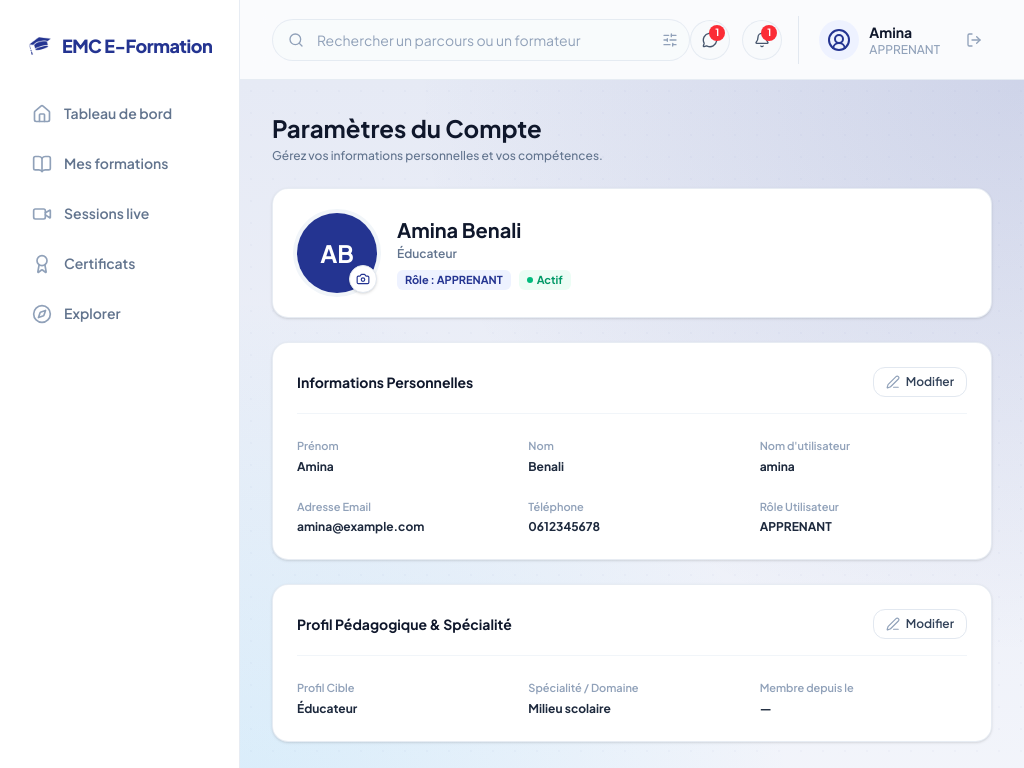
Test case: Intégration — parcours apprenant › charge et met à jour le profil
Expected: the heading "Informations Personnelles" is shown, [297, 372, 473, 392]
Expected: the 1st text "Amina" is shown, [869, 22, 912, 40]
Click the 1st button "Modifier" at [920, 382], box [873, 367, 967, 397]
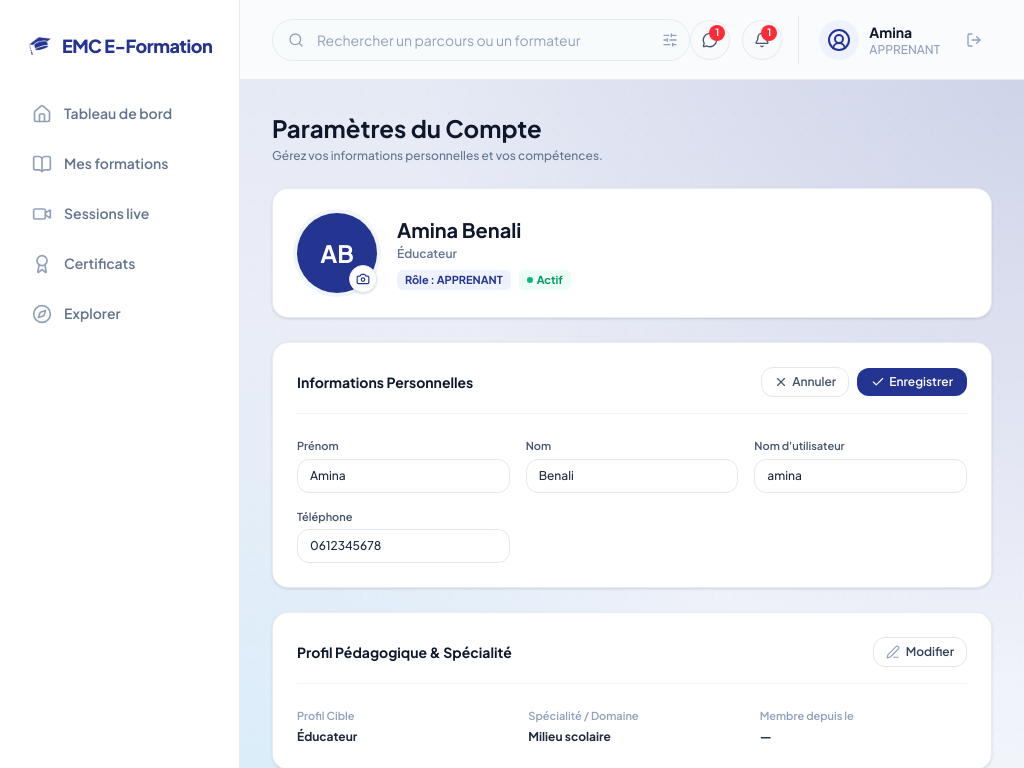
Replace the text in the field showing "Amina" below "Prénom" with "Amine" at [403, 476], box [297, 458, 510, 492]
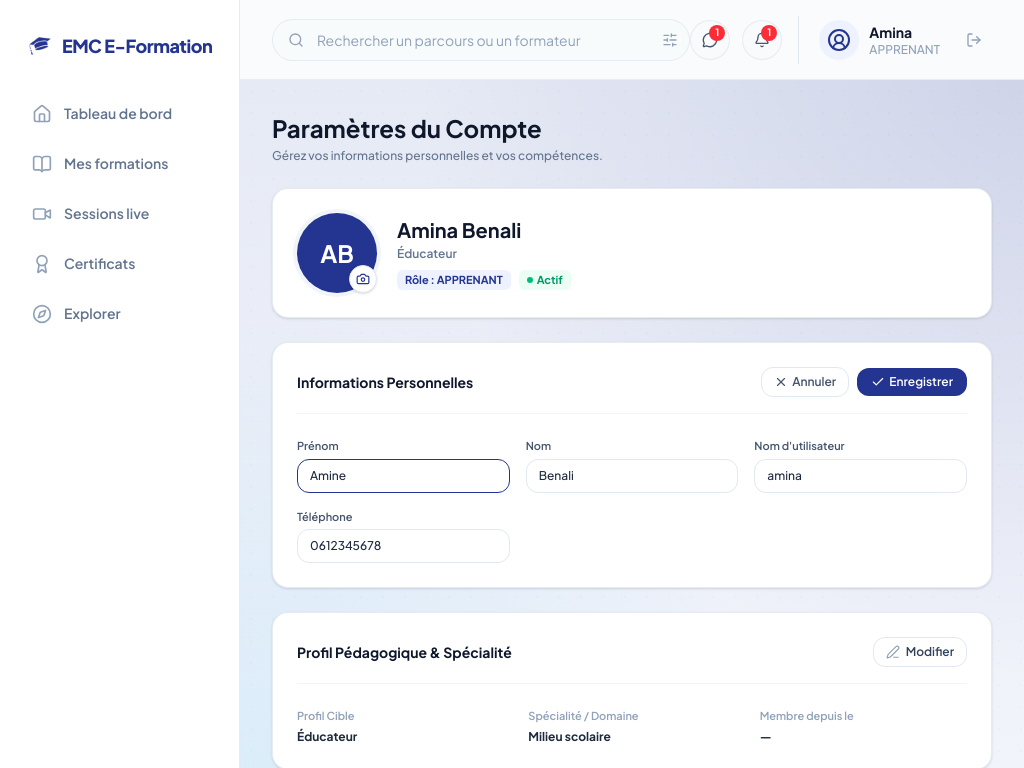
Click the button "Enregistrer" at [912, 382], box [857, 368, 967, 396]
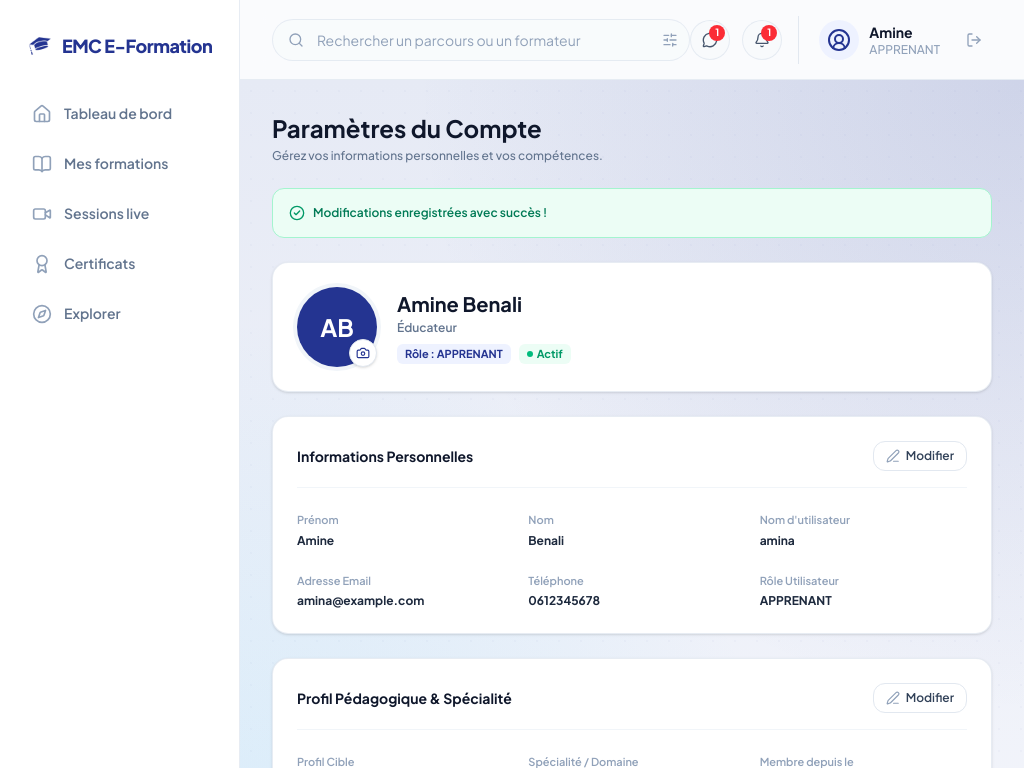
Now the text "Modifications enregistrées avec succès !" is shown, box [313, 205, 547, 221]
Now the 1st text "Amina" reads "Amine", box [869, 22, 913, 40]
